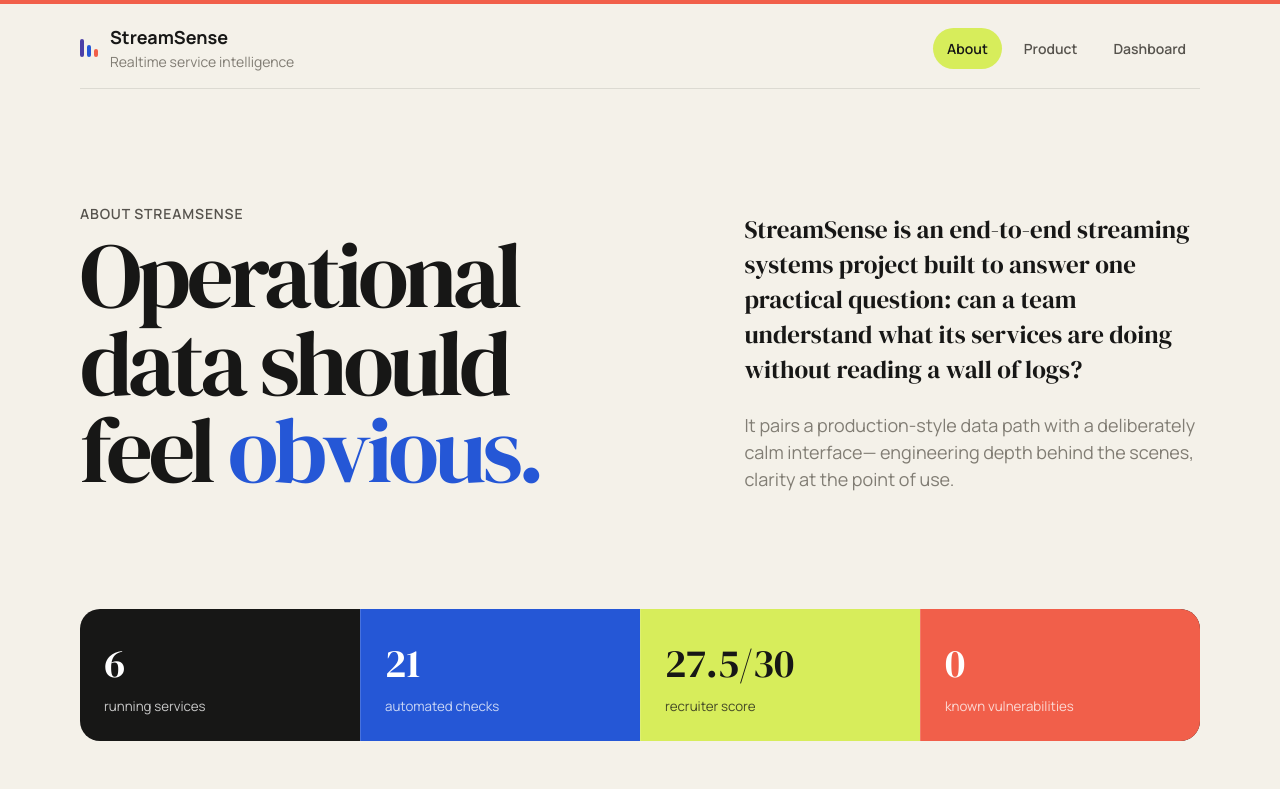
App routes › navigates from About to Product without a reload
The image size is (1280, 789).
Click the link "Product" at x=1051, y=48, box top-left (1024, 38), bottom-right (1077, 58)
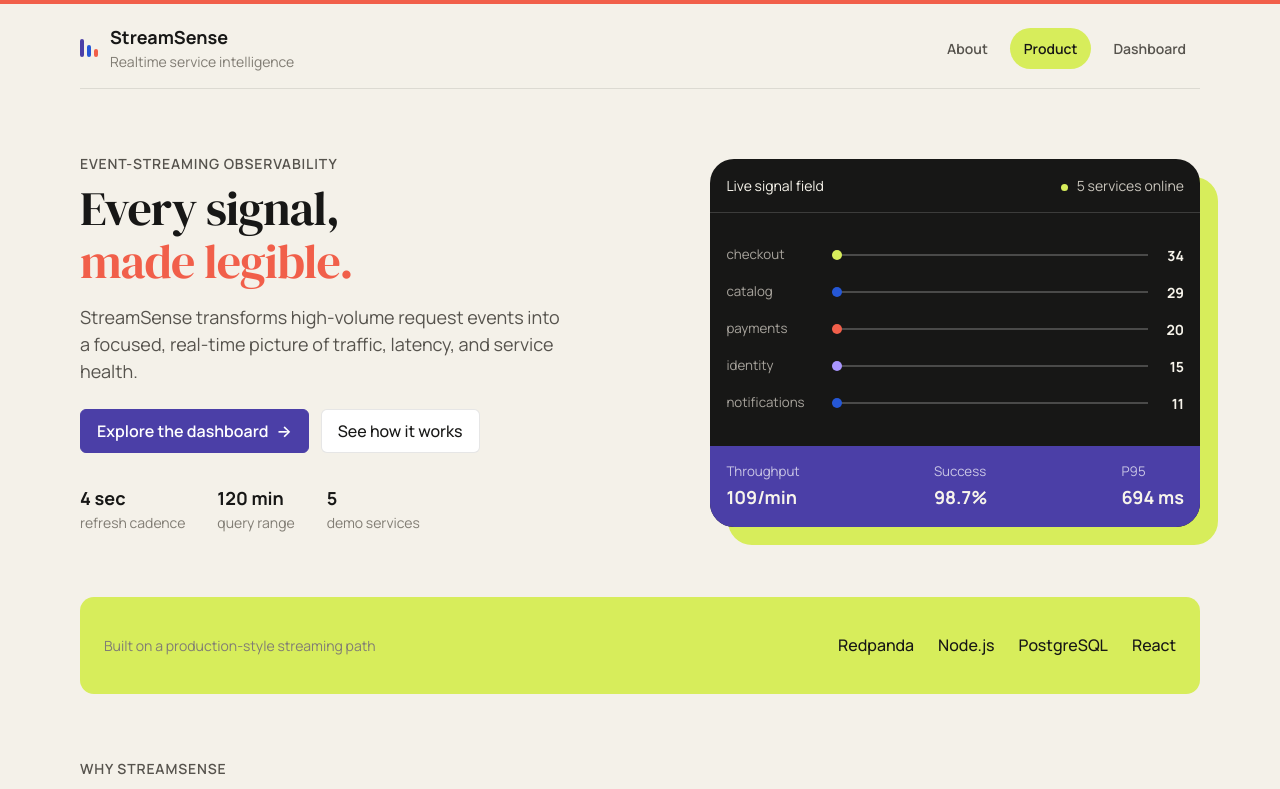
Now the heading "Every signal,made legible." is shown, box top-left (80, 175), bottom-right (353, 294)
